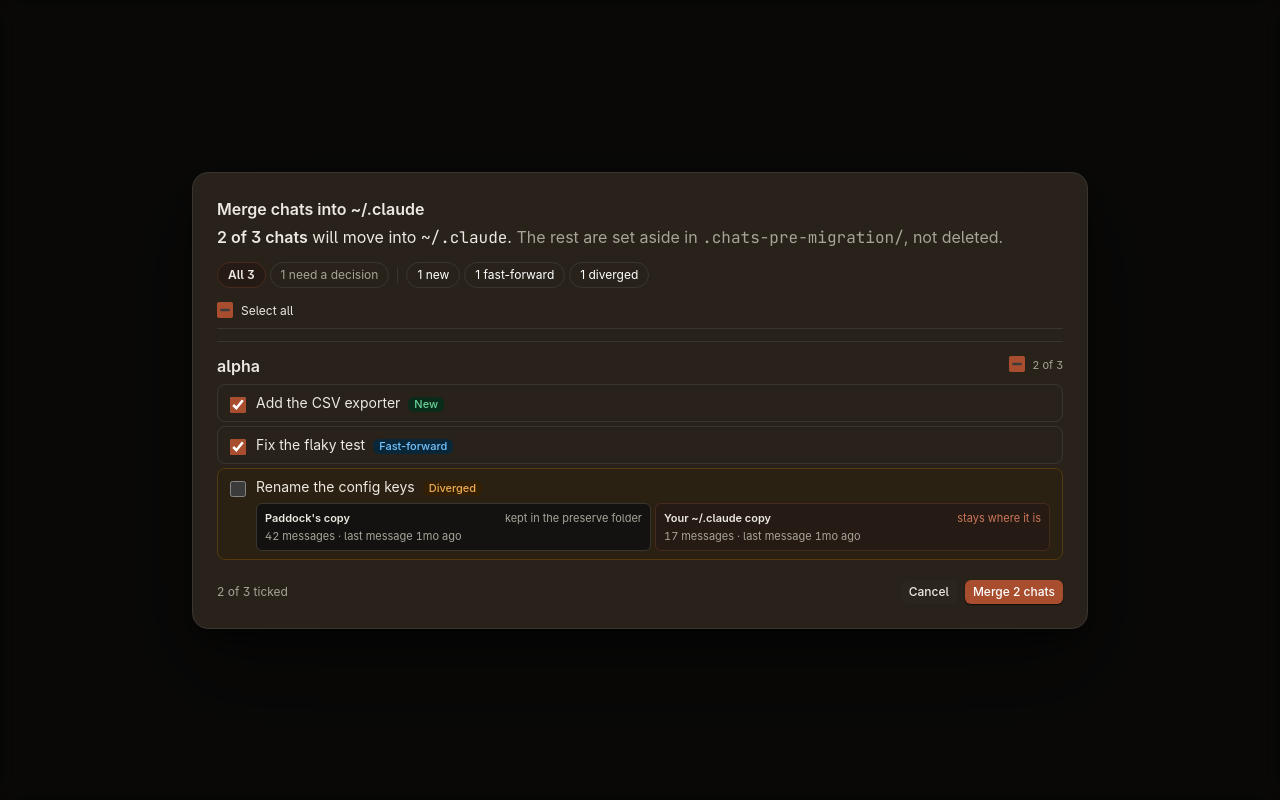
Test case: the table › groups rows under their project and offers a per-project tick
Check: the checkbox labelled "Add the CSV exporter New" is shown, box [230,396,246,412]
Click the checkbox labelled "2 of 3" at (1017, 364), box [1009,356,1025,372]
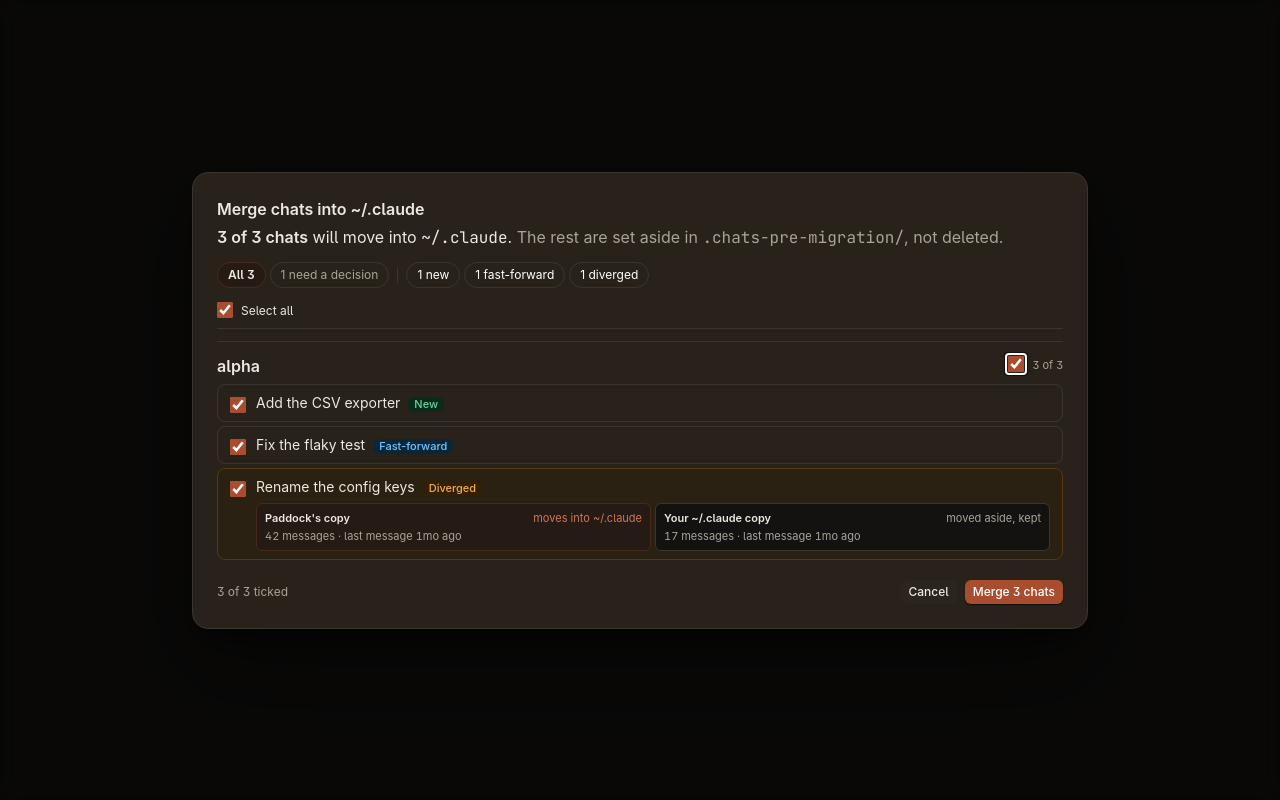
Check: the checkbox labelled "Rename the config keys" is checked, box [230,480,246,496]
